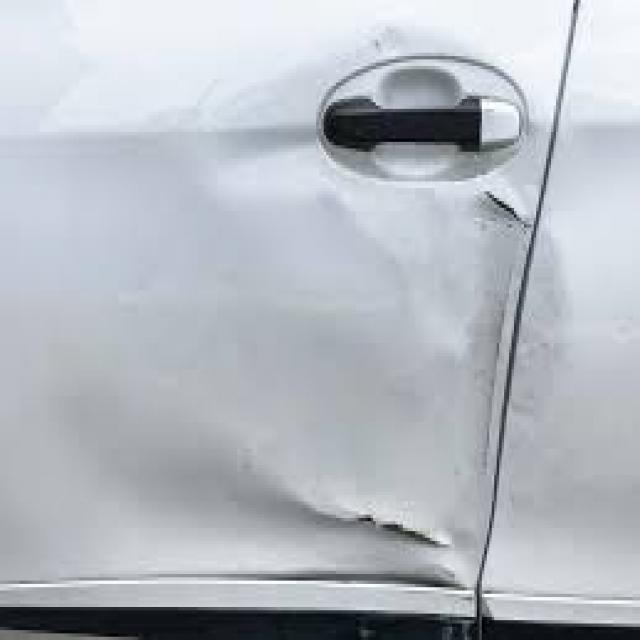minor: (186, 76, 613, 553)
